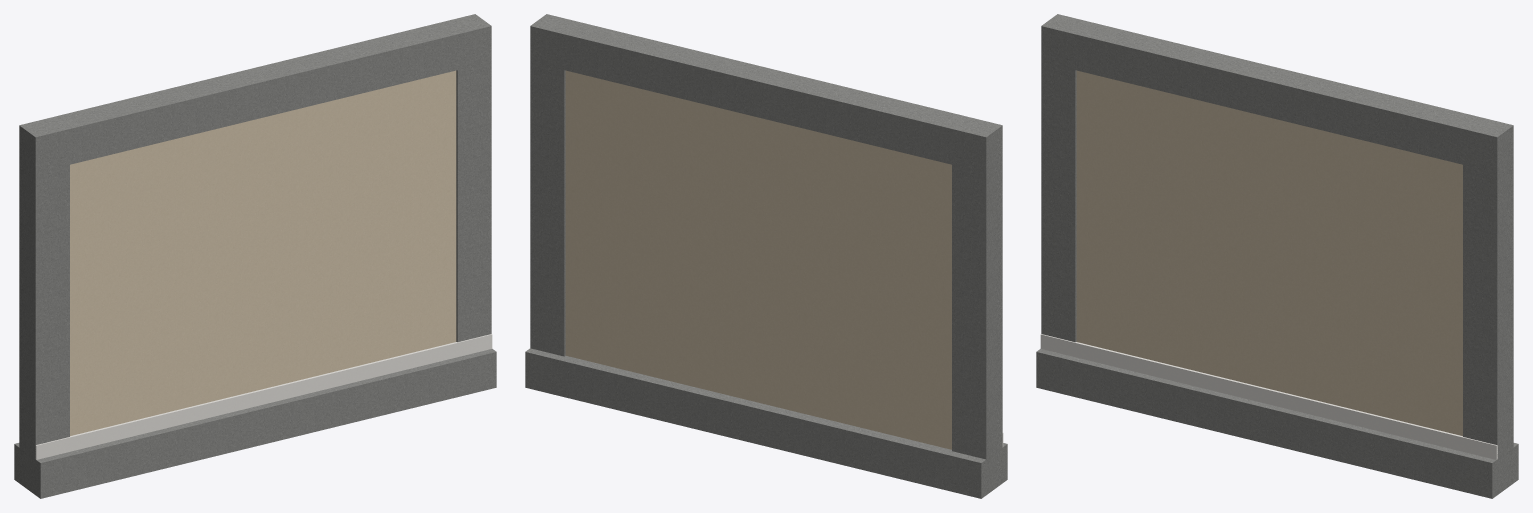
Rendered from estate_wall_5f.glb.
3 views of the same model, side by side, from view 1: azimuth 30°, elevation 25°; view 2: azimuth 150°, elevation 25°; view 3: azimuth 330°, elevation 25° (orthographic).
Parts seen in each view (by area): view 1: Cube.004, Cube.003, Cube, Cube.001, Cube.002, Cube.005; view 2: Cube.004, Cube.003, Cube, Cube.001, Cube.002; view 3: Cube.004, Cube.003, Cube, Cube.002, Cube.001, Cube.005.
Boxes of the visible parts, left/top/right/bottom form: Cube.004: left=70, top=70, right=456, bottom=435; Cube.003: left=19, top=14, right=491, bottom=172; Cube: left=14, top=349, right=496, bottom=498; Cube.001: left=19, top=161, right=69, bottom=459; Cube.002: left=456, top=62, right=491, bottom=342; Cube.005: left=35, top=334, right=492, bottom=459; Cube.004: left=565, top=70, right=951, bottom=449; Cube.003: left=530, top=14, right=1002, bottom=172; Cube: left=525, top=348, right=1007, bottom=498; Cube.001: left=952, top=161, right=1002, bottom=459; Cube.002: left=530, top=62, right=565, bottom=356; Cube.004: left=1076, top=70, right=1462, bottom=435; Cube.003: left=1041, top=14, right=1513, bottom=172; Cube: left=1036, top=349, right=1518, bottom=498; Cube.002: left=1463, top=161, right=1513, bottom=458; Cube.001: left=1041, top=62, right=1076, bottom=342; Cube.005: left=1040, top=334, right=1497, bottom=459.
Bounding box in the file's own units: 4 × 3 × 0.4.
Materials: 3 (3 with a texture image).
